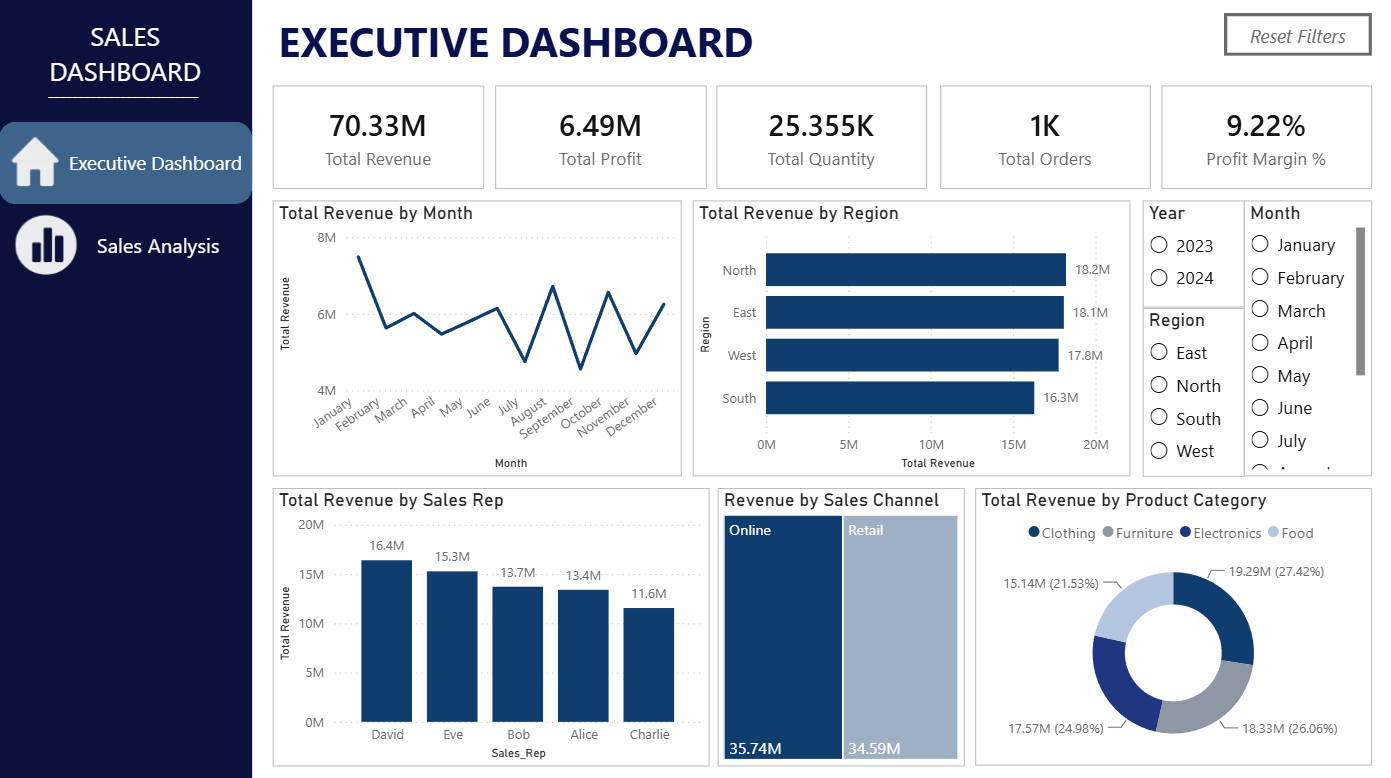

This screenshot's page, from the dashboard's own definition file:
{"tool":"powerbi","page":{"name":"Executive Dashboard","canvas":[1280,720],"ordinal":0},"visuals":[{"type":"shape","box":[0,0,232.9,720],"z":0},{"type":"lineChart","title":"Total Revenue by Month","fields":{"Category":["Date_Table.Month"],"Y":["sales_data.Total Revenue"]},"box":[251.2,186.2,376.2,253.8],"z":1000},{"type":"clusteredBarChart","title":"Total Revenue by Region","fields":{"Category":["sales_data.Region"],"Y":["sales_data.Total Revenue"]},"box":[637.5,186.2,402.5,253.8],"z":2000},{"type":"donutChart","title":"Total Revenue by Product Category","fields":{"Category":["sales_data.Product_Category"],"Y":["sales_data.Total Revenue"]},"box":[897.5,450,365,255],"z":3000},{"type":"treemap","title":" Revenue by Sales Channel","fields":{"Group":["sales_data.Sales_Channel"],"Values":["sales_data.Total Revenue"]},"box":[661.2,450,227.5,256.2],"z":4000},{"type":"actionButton","box":[0,114.3,232.9,75.7],"z":5000},{"type":"actionButton","box":[0,190,232.9,75.7],"z":6000},{"type":"listSlicer","fields":{"Values":["Date_Table.Month"]},"box":[1145,186.2,117.5,253.8],"z":7000},{"type":"listSlicer","fields":{"Values":["Date_Table.Year"]},"box":[1051.2,186.2,93.8,98.8],"z":8000},{"type":"clusteredColumnChart","title":"Total Revenue by Sales Rep","fields":{"Category":["sales_data.Sales_Rep"],"Y":["sales_data.Total Revenue"]},"box":[251.2,450,401.2,256.2],"z":9000},{"type":"textbox","box":[40.4,13.5,151.6,77],"z":10000},{"type":"textbox","box":[40,71.1,165.6,37.8],"z":11000},{"type":"textbox","box":[251.2,8.8,470,71.2],"z":12000},{"type":"cardVisual","fields":{"Data":["sales_data.Total Quantity"]},"box":[660,80,193.8,95],"z":13000},{"type":"cardVisual","fields":{"Data":["sales_data.Total Orders"]},"box":[865,80,193.8,95],"z":14000},{"type":"cardVisual","fields":{"Data":["sales_data.Total Revenue"]},"box":[251.2,80,194,95],"z":15000},{"type":"cardVisual","fields":{"Data":["sales_data.Total Profit"]},"box":[456,80,194,95],"z":16000},{"type":"cardVisual","fields":{"Data":["sales_data.Profit Margin %"]},"box":[1068.8,80,193.8,95],"z":17000},{"type":"listSlicer","fields":{"Values":["sales_data.Region"]},"box":[1051.2,285,93.8,155],"z":18000},{"type":"actionButton","box":[1126.7,14,136,39.5],"z":19000}]}

Visuals, with their boxes on the page's 1280x720 design canvas (x1, y1, x2, y2). These are canvas units, not pixel positions in the 1391x778 screenshot, which may show the page scaled, cropped or inside an application window:
shape: region(0, 0, 233, 720)
"Total Revenue by Month" lineChart: region(251, 186, 627, 440)
"Total Revenue by Region" clusteredBarChart: region(638, 186, 1040, 440)
"Total Revenue by Product Category" donutChart: region(898, 450, 1262, 705)
" Revenue by Sales Channel" treemap: region(661, 450, 889, 706)
actionButton: region(0, 114, 233, 190)
actionButton: region(0, 190, 233, 266)
listSlicer - Date_Table.Month: region(1145, 186, 1262, 440)
listSlicer - Date_Table.Year: region(1051, 186, 1145, 285)
"Total Revenue by Sales Rep" clusteredColumnChart: region(251, 450, 652, 706)
textbox: region(40, 14, 192, 90)
textbox: region(40, 71, 206, 109)
textbox: region(251, 9, 721, 80)
cardVisual - sales_data.Total Quantity: region(660, 80, 854, 175)
cardVisual - sales_data.Total Orders: region(865, 80, 1059, 175)
cardVisual - sales_data.Total Revenue: region(251, 80, 445, 175)
cardVisual - sales_data.Total Profit: region(456, 80, 650, 175)
cardVisual - sales_data.Profit Margin %: region(1069, 80, 1263, 175)
listSlicer - sales_data.Region: region(1051, 285, 1145, 440)
actionButton: region(1127, 14, 1263, 54)
